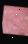plaque psoriasis: (0, 3, 28, 38)
